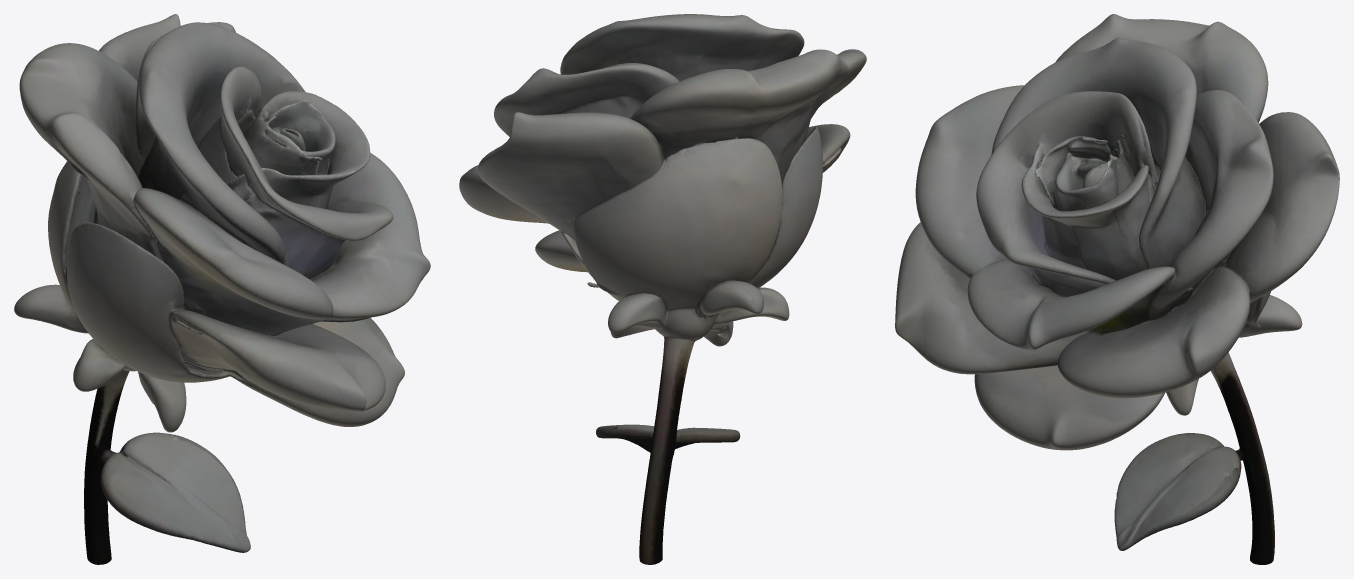
Rendered from Flor.glb.
3 views of the same model, side by side, from view 1: azimuth 30°, elevation 25°; view 2: azimuth 150°, elevation 25°; view 3: azimuth 270°, elevation 25° (orthographic). The views are drawn at different scales.
Visible parts, largest first — view 1: tripo_node_a8a6e779-638c-4190-ba37-7d695dcfc431; view 2: tripo_node_a8a6e779-638c-4190-ba37-7d695dcfc431; view 3: tripo_node_a8a6e779-638c-4190-ba37-7d695dcfc431.
Boxes of the visible parts, box(x1,y1,x2,y2) form: tripo_node_a8a6e779-638c-4190-ba37-7d695dcfc431: box(14, 14, 430, 564); tripo_node_a8a6e779-638c-4190-ba37-7d695dcfc431: box(459, 14, 866, 564); tripo_node_a8a6e779-638c-4190-ba37-7d695dcfc431: box(895, 14, 1339, 564).
Bounding box in the file's own units: 0.702 × 1 × 0.7807.
1 material, 1 textured.
